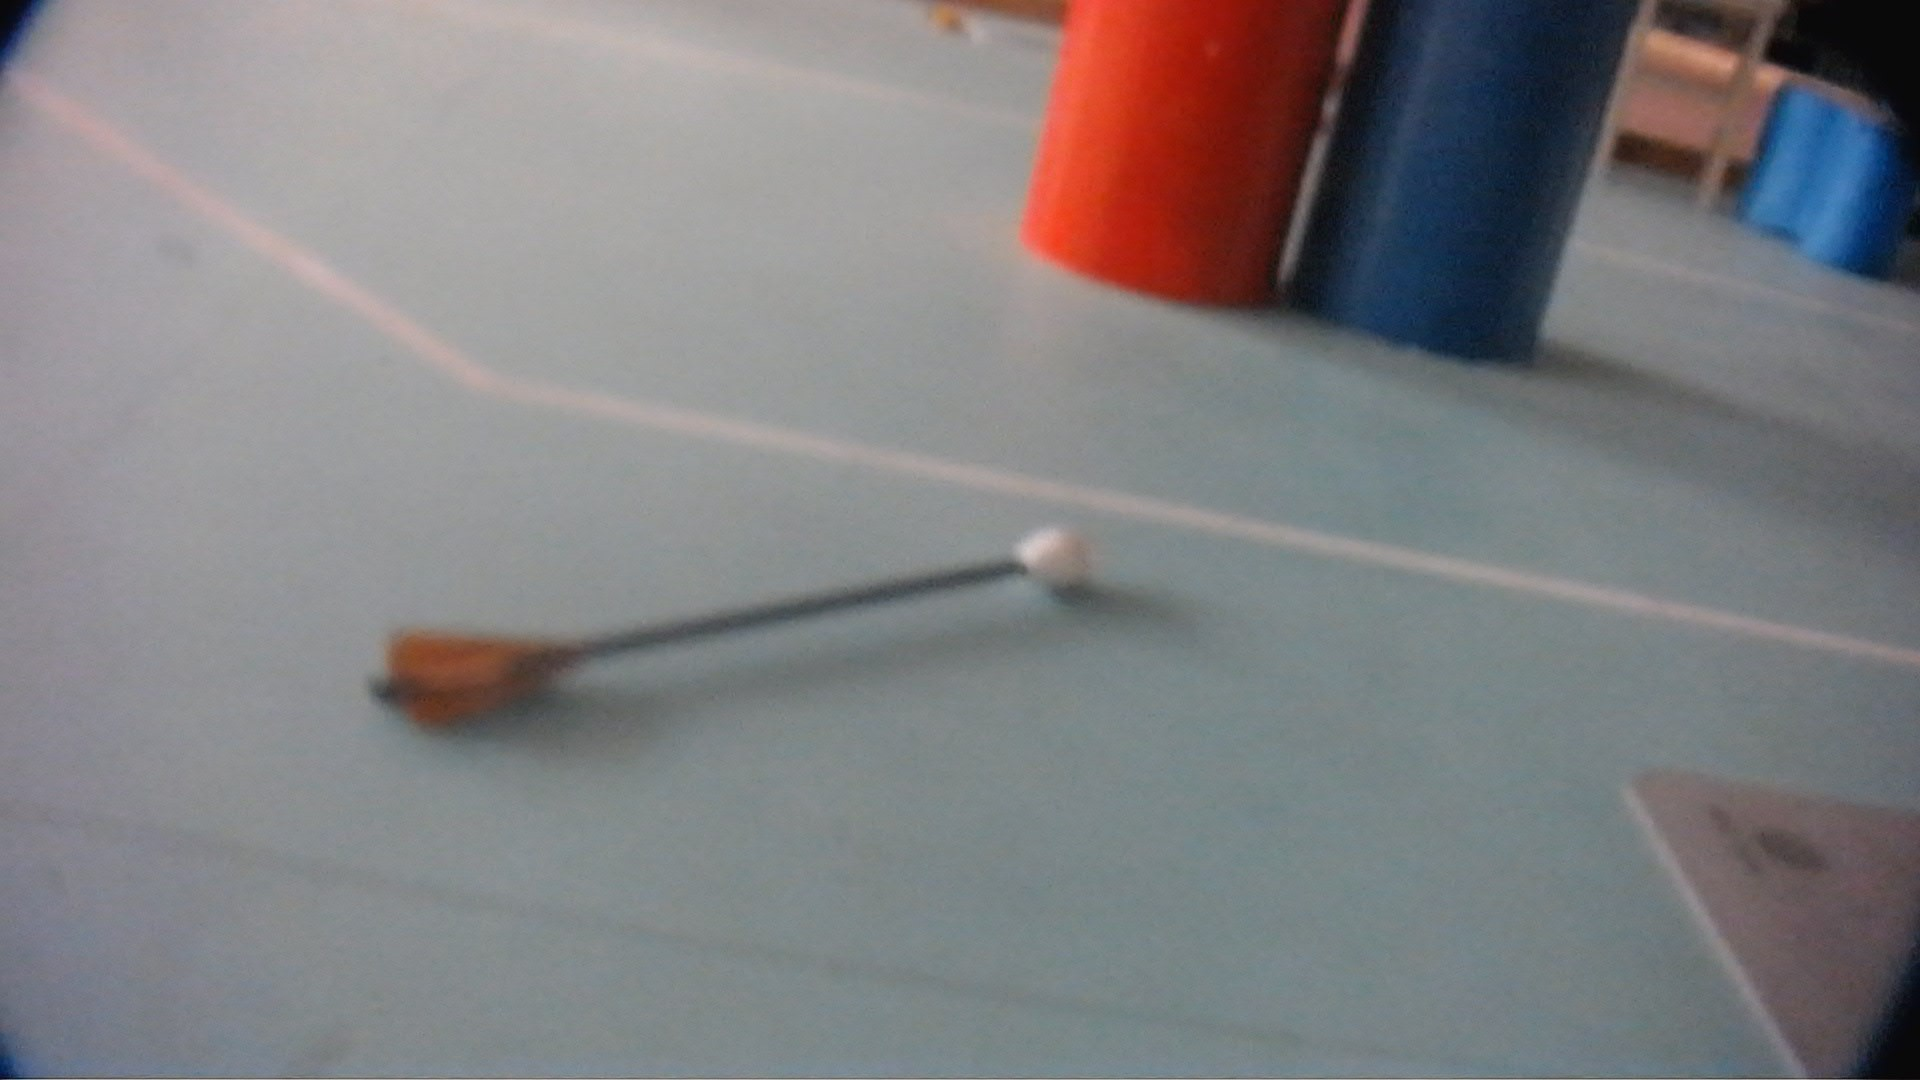arrow: (368, 518, 1087, 728)
arrowFront: (1010, 516, 1087, 587)
